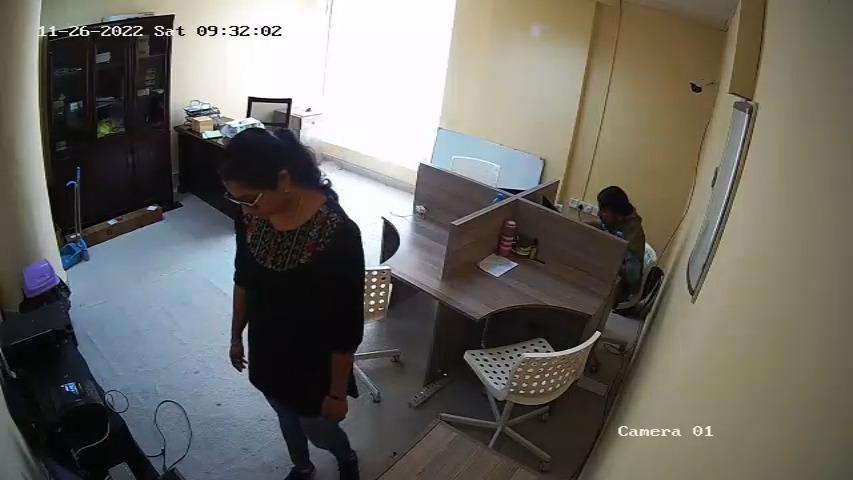no_apron: (246, 219, 331, 383)
